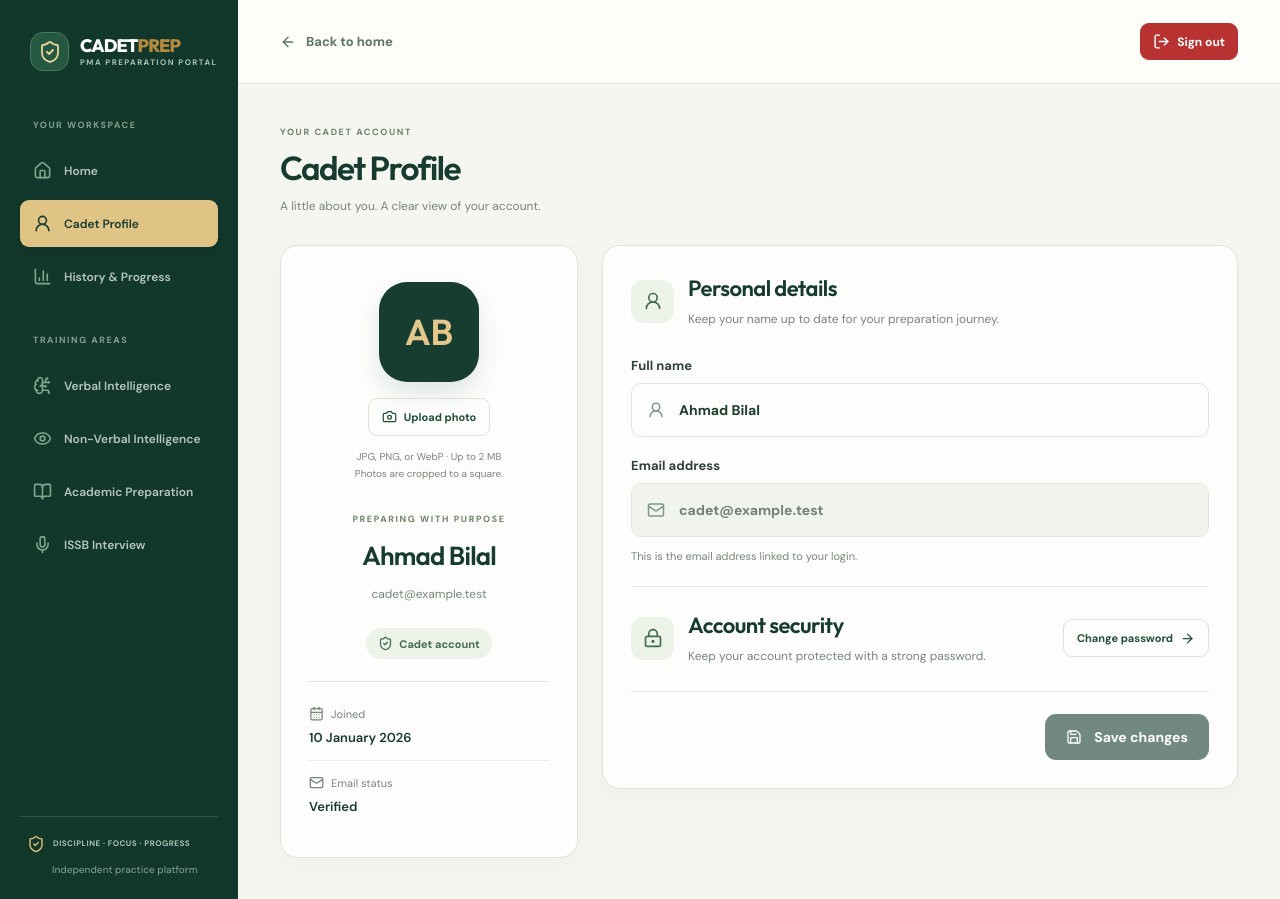
the profile header has a working sign-out button
This screenshot has width=1280, height=899.
What coordinates should you click on to do the following:
click the button "Sign out"
I would click on:
 (1189, 42)
Its box is x1=1140 y1=23 x2=1238 y2=60.
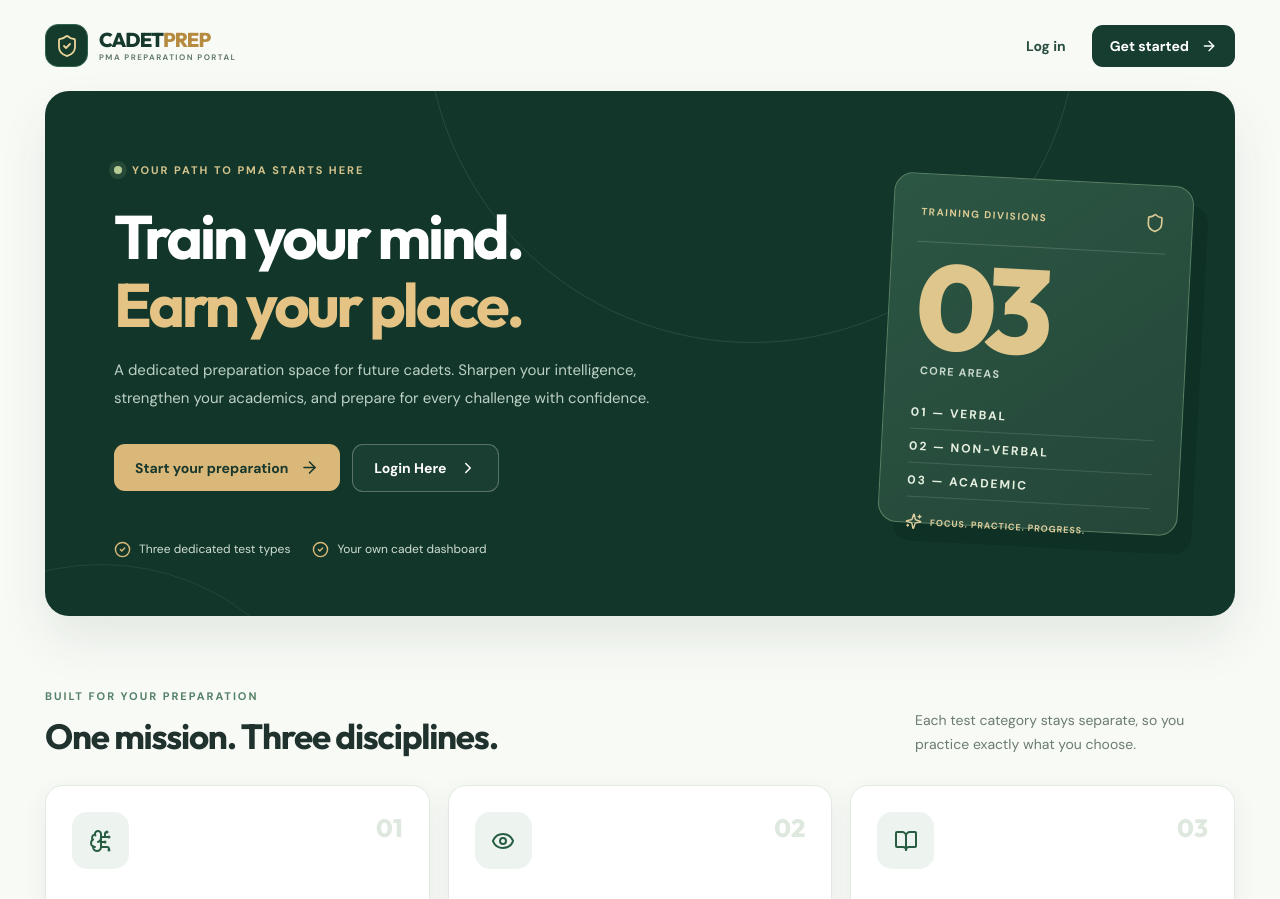
Now the heading "Train your mind.Earn your place." is shown, box x1=114 y1=198 x2=522 y2=343
